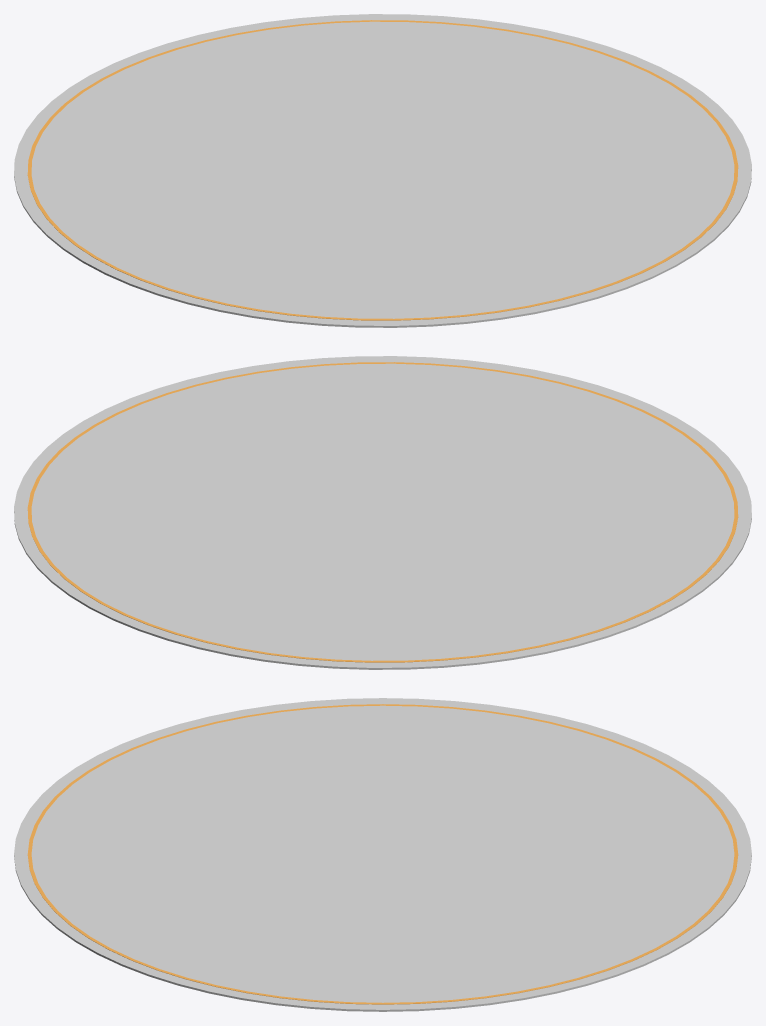
File: HallDisc.glb
The picture shows the model from 3 angles, top to bottom: view 1: azimuth 30°, elevation 25°; view 2: azimuth 150°, elevation 25°; view 3: azimuth 270°, elevation 25°; orthographic projection.
Visible parts, largest first — view 1: Body, Glow; view 2: Body, Glow; view 3: Body, Glow.
Part boxes in pixels (bbox=[...]): Body: bbox=[14, 14, 751, 327]; Glow: bbox=[27, 20, 738, 320]; Body: bbox=[14, 356, 751, 669]; Glow: bbox=[27, 362, 738, 662]; Body: bbox=[14, 698, 751, 1011]; Glow: bbox=[27, 704, 738, 1004].
Bounding box in the file's own units: 48.4 × 0.14 × 48.4.
